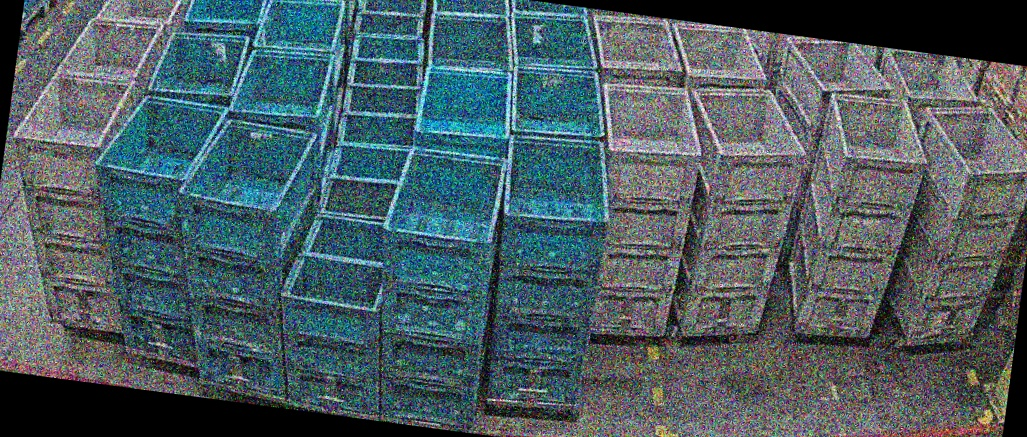4G: (0, 64, 157, 334), (660, 79, 814, 349), (780, 88, 935, 348), (881, 97, 1027, 355), (570, 78, 710, 345)
B4: (157, 107, 323, 399), (71, 89, 231, 363), (357, 143, 508, 431), (475, 130, 620, 411)
B8: (266, 210, 404, 416)
